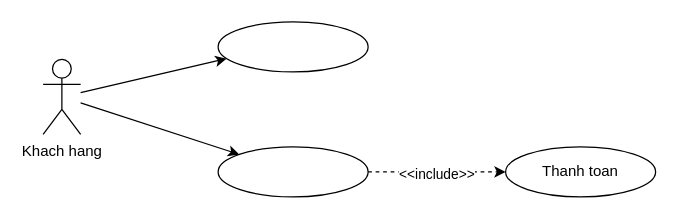
This 678x219 diagram has some shape labels left out. Each missing label, with the centre of its shape:
Dang nhap: the point at 292,46
Quan ly don hang: the point at 292,171
